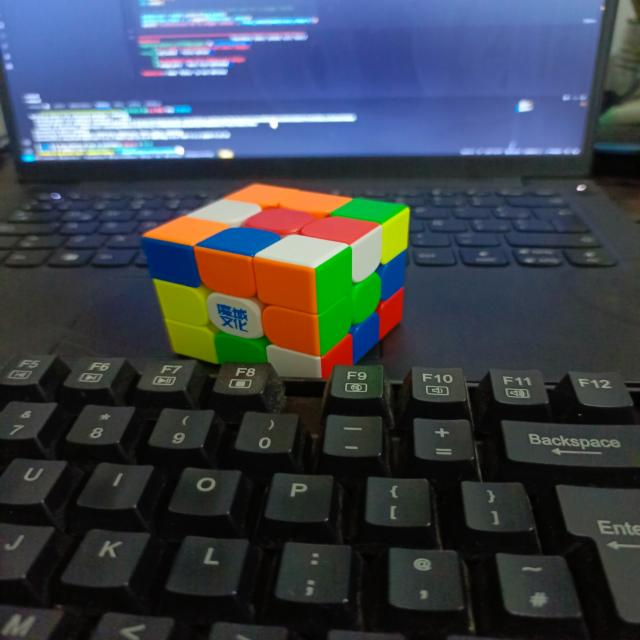rubik: (139, 181, 411, 378)
